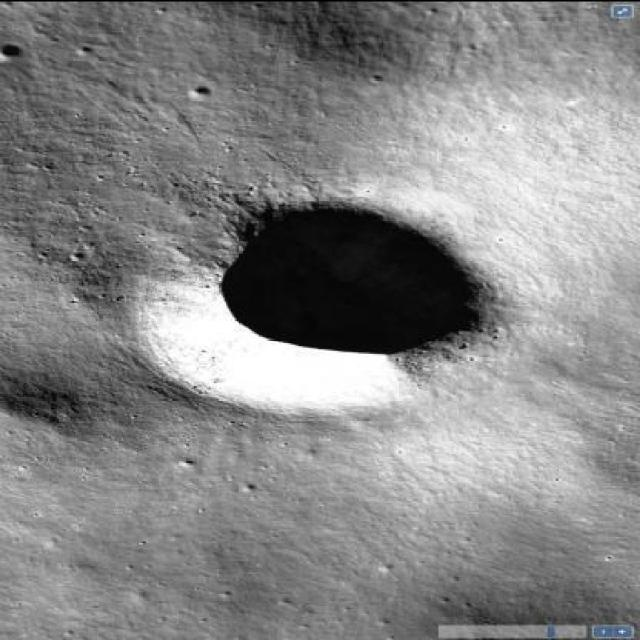crater: (129, 194, 514, 412)
